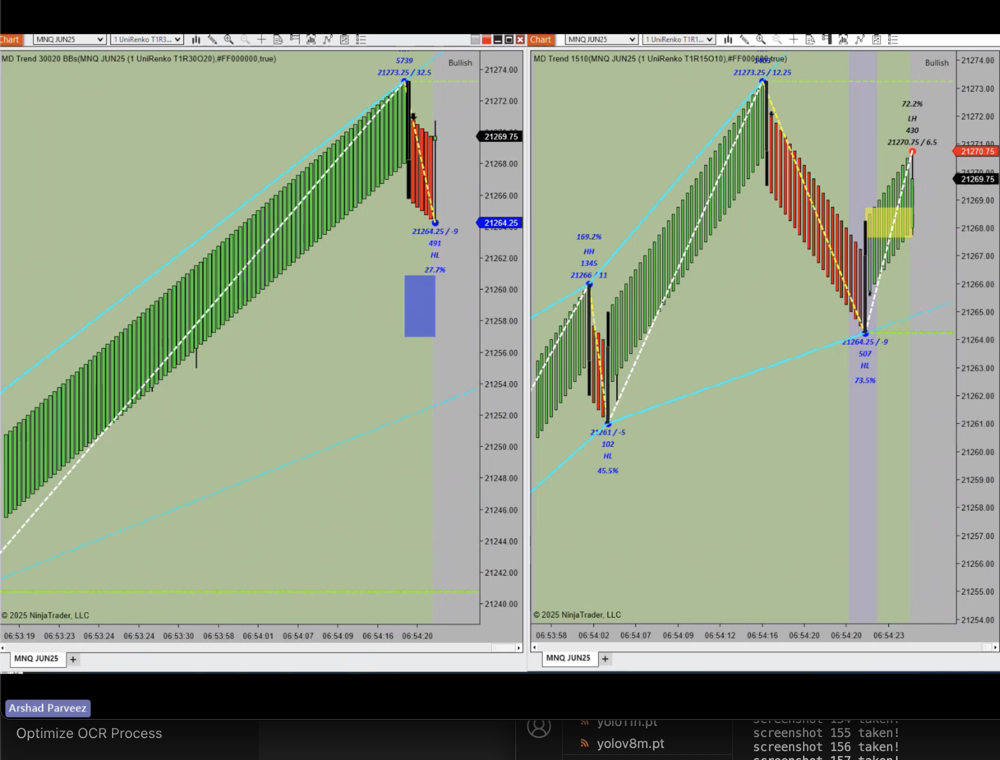HH: (579, 243, 601, 259)
HL: (600, 447, 623, 465), (855, 357, 877, 372), (426, 247, 443, 262)
LH: (902, 111, 924, 125)
